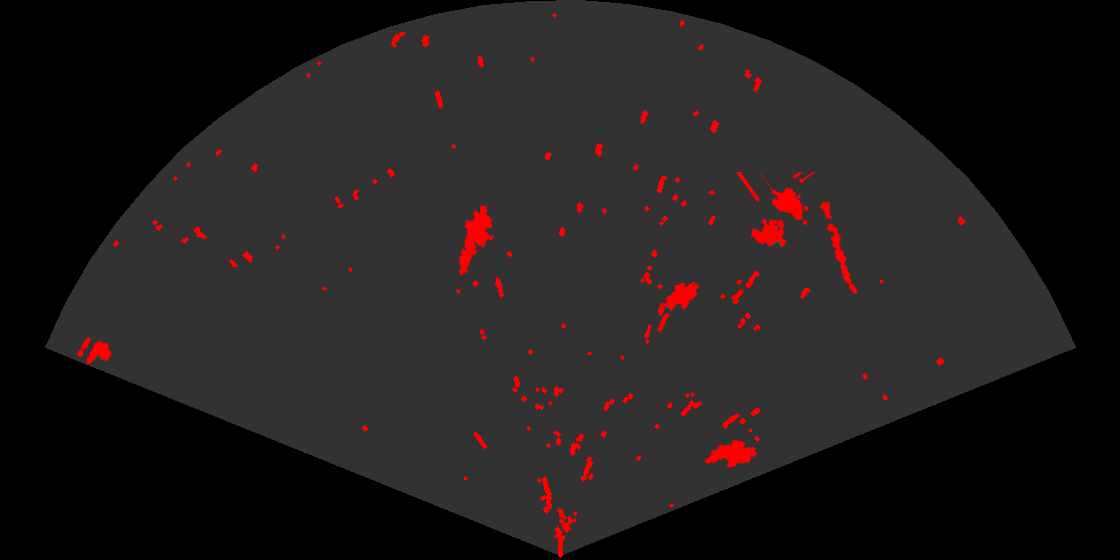AUV: (703, 438, 759, 469), (663, 280, 700, 312)
ball: (75, 335, 113, 366)
cage: (735, 172, 817, 248)
chain: (818, 199, 859, 296)
frogman: (457, 206, 496, 276)
